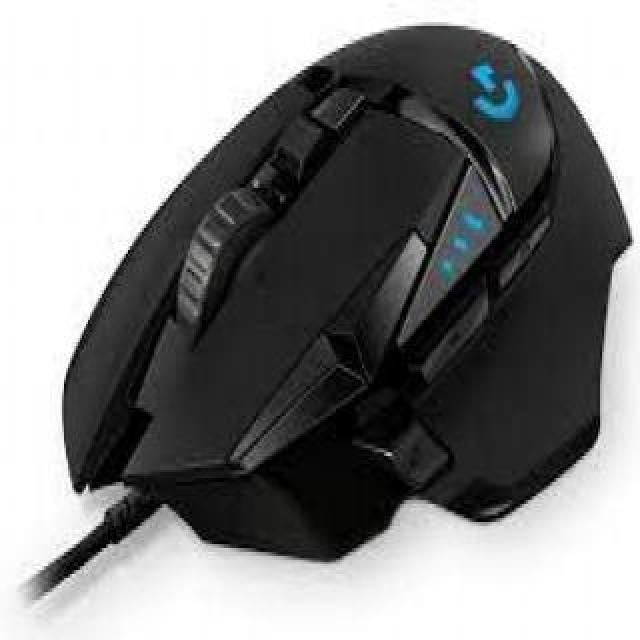mouse: (18, 19, 638, 579)
